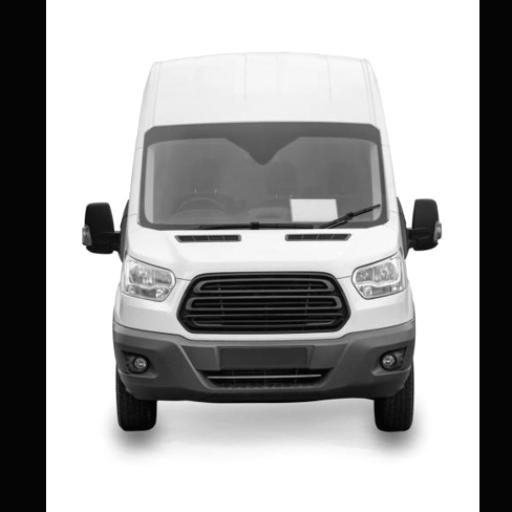van: (85, 52, 442, 430)
